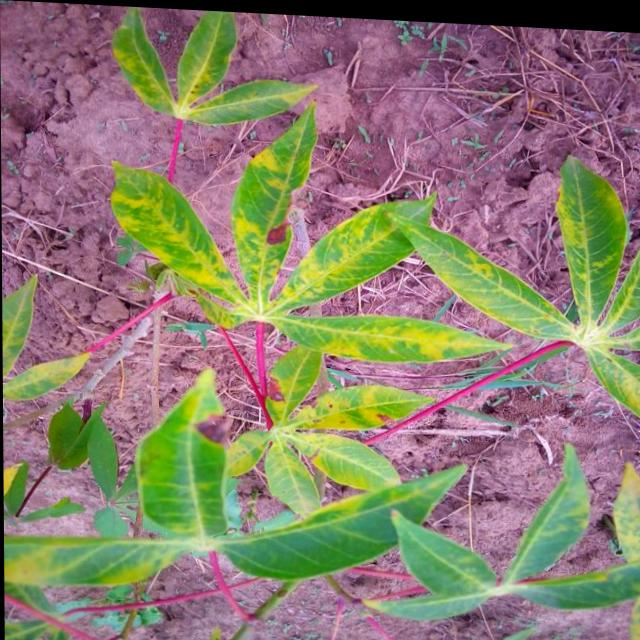Mosaico: (105, 138, 536, 376), (399, 105, 640, 420), (42, 412, 402, 607), (204, 319, 430, 524), (83, 4, 300, 181)
